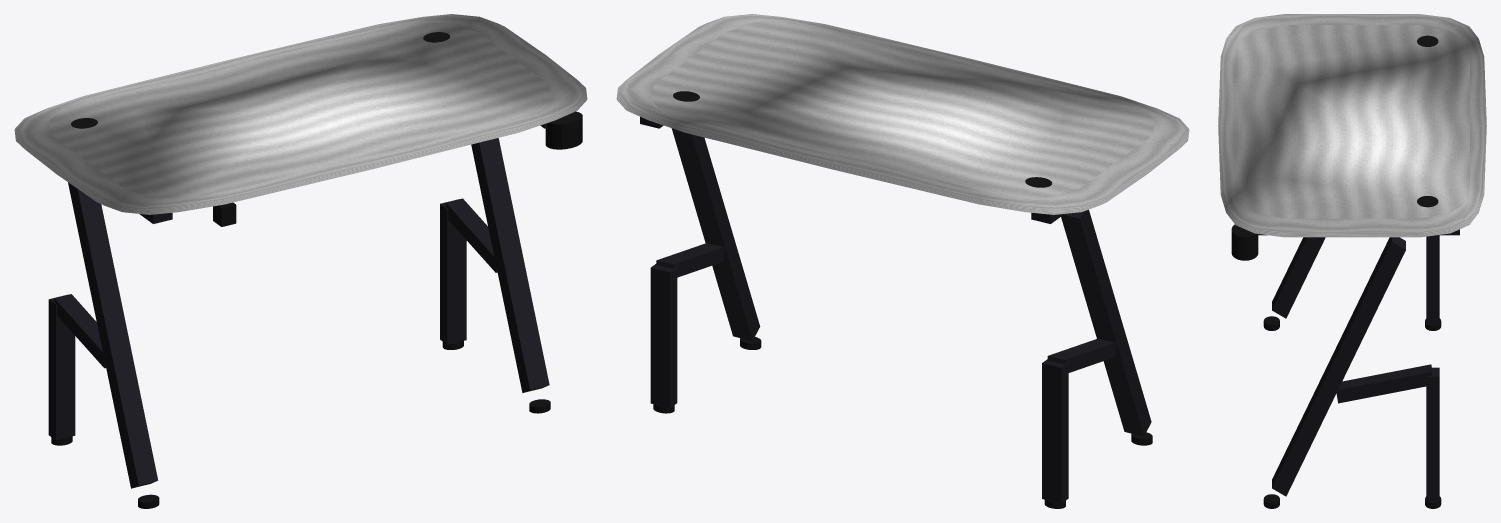
3 renders of one model, left to right at view 1: azimuth 30°, elevation 25°; view 2: azimuth 150°, elevation 25°; view 3: azimuth 270°, elevation 25°, orthographic. The views are drawn at different scales.
Visible parts, largest first — view 1: 1 tabletop, 8 left_main_leg, 9 right_main_leg, 10 left_rear_leg, 11 right_rear_leg, 13 right_leg_strut, 12 left_leg_strut, 19 cup_holder; view 2: 1 tabletop, 8 left_main_leg, 9 right_main_leg, 11 right_rear_leg, 10 left_rear_leg, 12 left_leg_strut, 13 right_leg_strut; view 3: 1 tabletop, 9 right_main_leg, 13 right_leg_strut, 11 right_rear_leg, 8 left_main_leg, 10 left_rear_leg, 19 cup_holder.
Boxes of the visible parts, x1,y1,x2,y2 form: 1 tabletop: (14,14,587,214); 8 left_main_leg: (68,182,158,488); 9 right_main_leg: (471,138,549,392); 10 left_rear_leg: (48,294,75,440); 11 right_rear_leg: (440,199,466,344); 13 right_leg_strut: (445,198,497,272); 12 left_leg_strut: (54,294,105,368); 19 cup_holder: (545,111,582,149); 1 tabletop: (616,14,1189,214); 8 left_main_leg: (1061,209,1151,436); 9 right_main_leg: (671,128,760,340); 11 right_rear_leg: (650,264,677,407); 10 left_rear_leg: (1042,359,1068,503); 12 left_leg_strut: (1047,338,1115,372); 13 right_leg_strut: (656,243,724,277); 1 tabletop: (1218,14,1486,237); 9 right_main_leg: (1272,237,1405,496); 13 right_leg_strut: (1336,364,1431,403); 11 right_rear_leg: (1426,367,1439,502); 8 left_main_leg: (1272,237,1325,318); 10 left_rear_leg: (1426,235,1439,325); 19 cup_holder: (1231,224,1258,260).
Size of the model in its own units: 1.19 by 0.7366 by 0.6096.
Materials: 3 (1 with a texture image).
